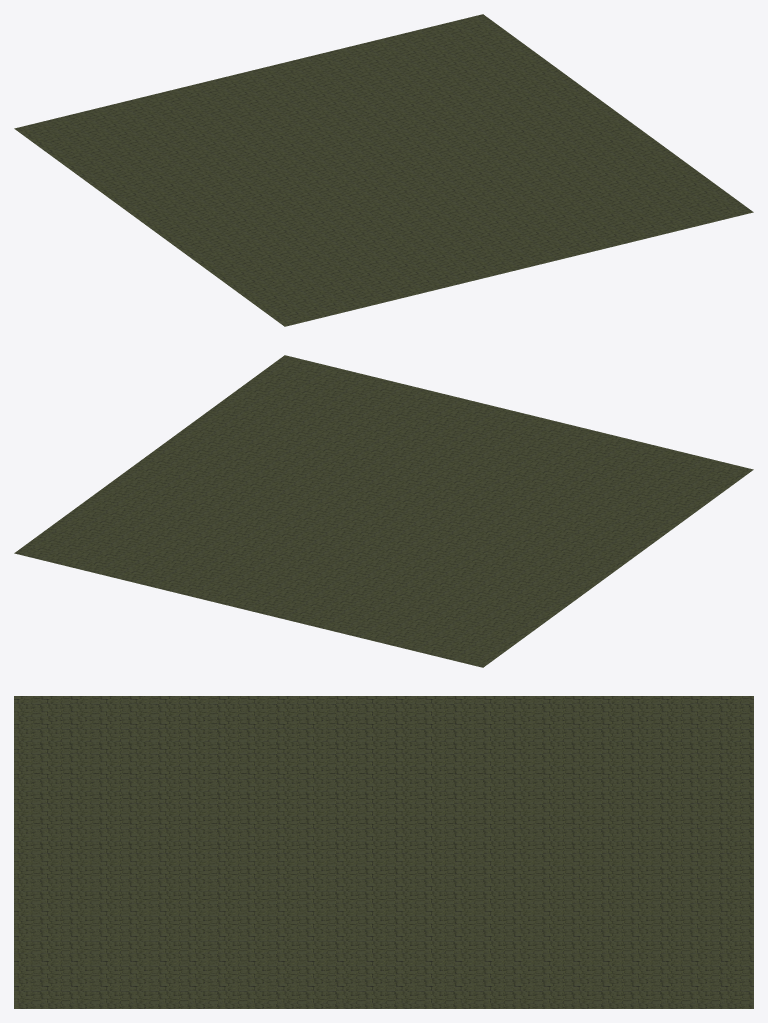
The model's file is Ground.fbx.
3 renders of one model, top to bottom at view 1: azimuth 30°, elevation 25°; view 2: azimuth 150°, elevation 25°; view 3: azimuth 270°, elevation 25°, orthographic. The views are drawn at different scales.
Parts seen in each view (by area): view 1: Ground; view 2: Ground; view 3: Ground.
Part boxes in pixels (<box>): Ground: <box>14,14,753,326</box>; Ground: <box>14,355,753,667</box>; Ground: <box>14,696,753,1008</box>.
Size of what is drawn, in the model's own units: 500 by 8.15e-05 by 500.
